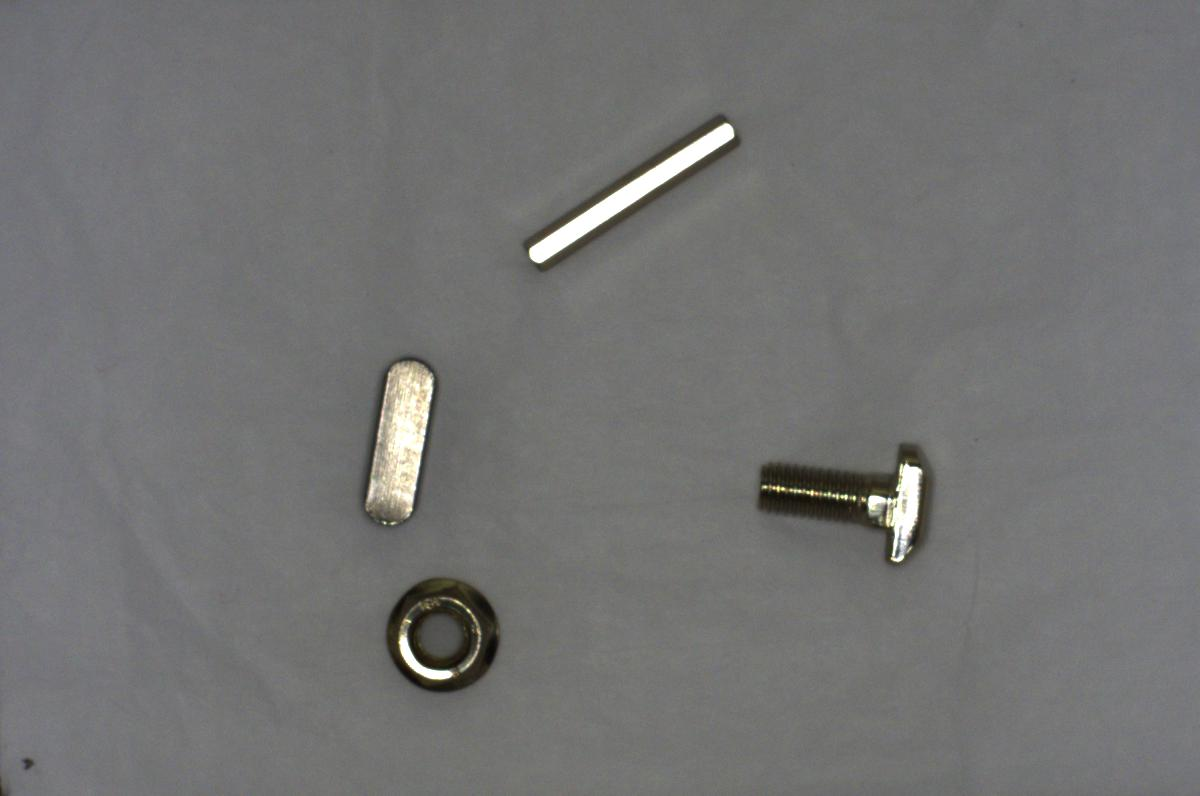Double hexagonal column: (512, 110, 742, 279)
Flange nut: (378, 566, 515, 707)
Keybar: (348, 352, 441, 526)
T-shaped screw: (742, 430, 944, 579)
